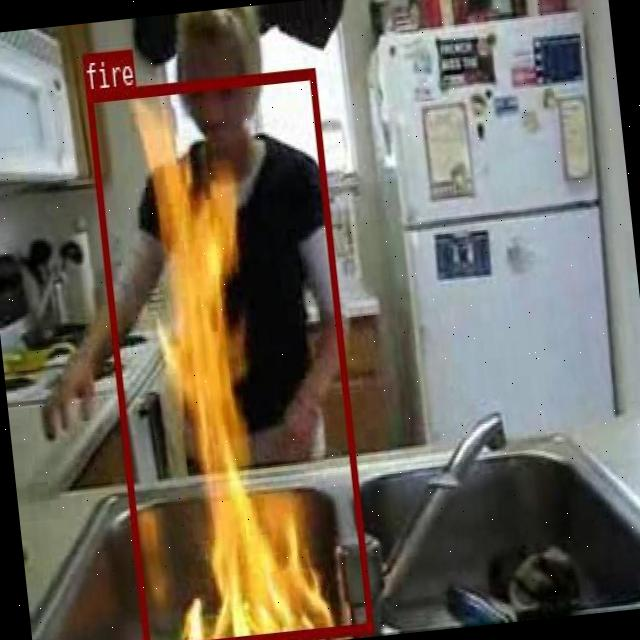fire: (83, 65, 371, 640)
